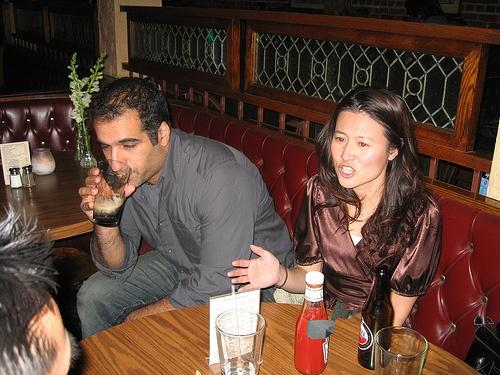tampered: (308, 302, 356, 339)
